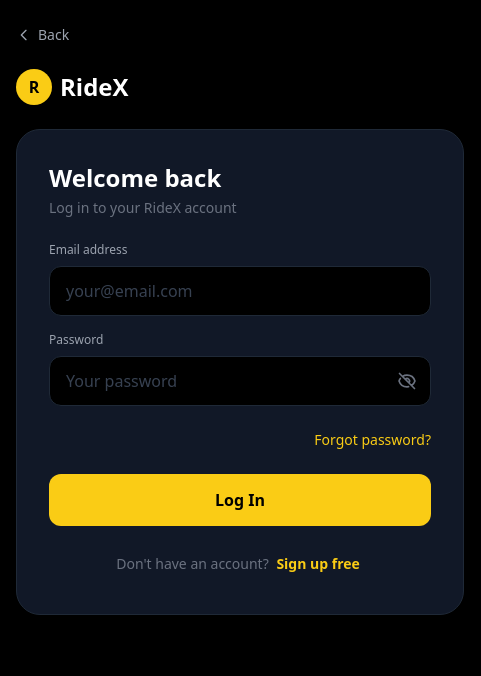
Test case: Login page › shows validation error when fields are empty
Click the button "Log In": x=240, y=500 [49,474,431,526]
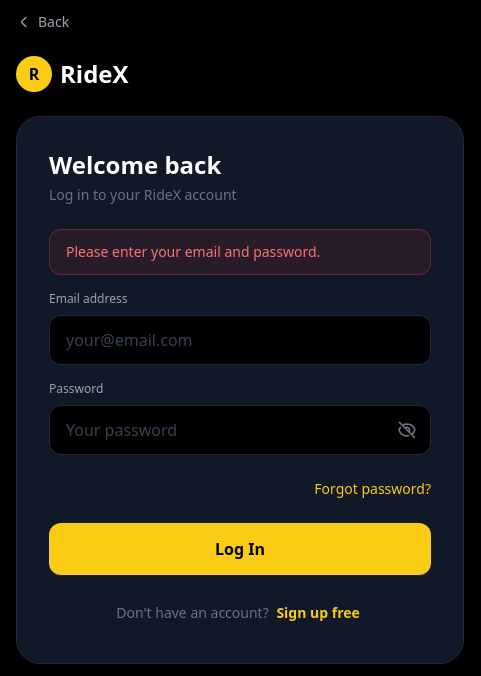
Check: the text "Please enter your email and password." is shown, box [66,242,320,261]
